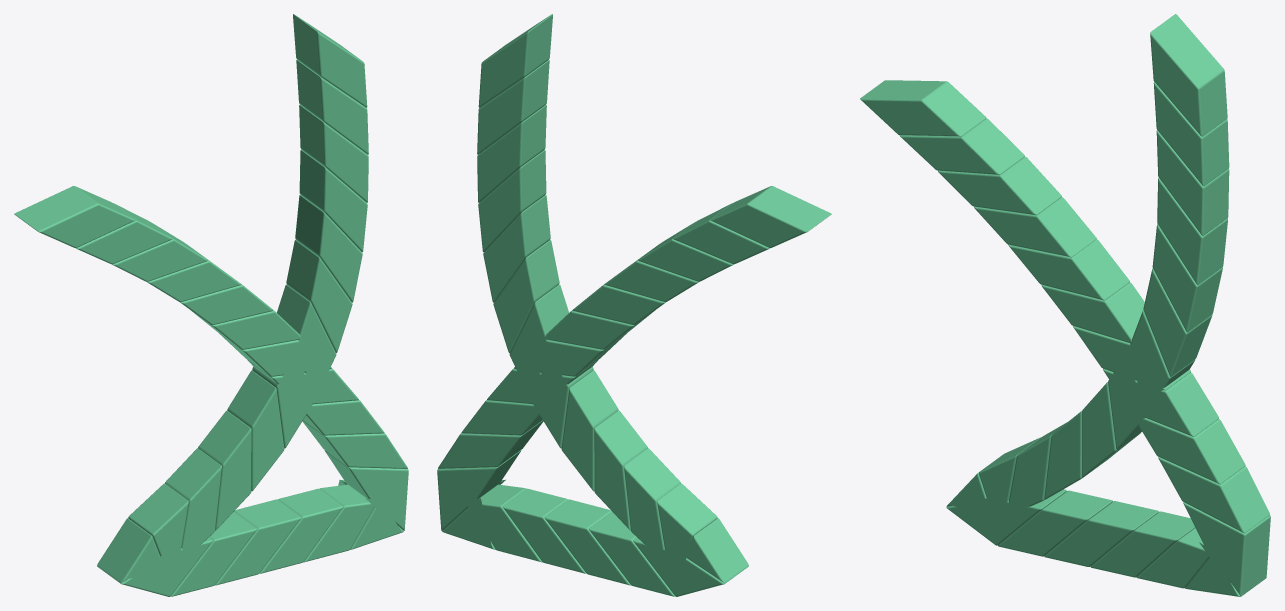
The model's file is lamalif.fbx.
3 renders of one model, left to right at view 1: azimuth 30°, elevation 25°; view 2: azimuth 150°, elevation 25°; view 3: azimuth 330°, elevation 25°, orthographic. The views are drawn at different scales.
Parts seen in each view (by area): view 1: Cube; view 2: Cube; view 3: Cube.
Boxes of the visible parts, x1,y1,x2,y2 form: Cube: (14, 14, 408, 596); Cube: (437, 14, 831, 596); Cube: (860, 14, 1270, 596).
Size of the model in its own units: 168 by 229 by 20.
